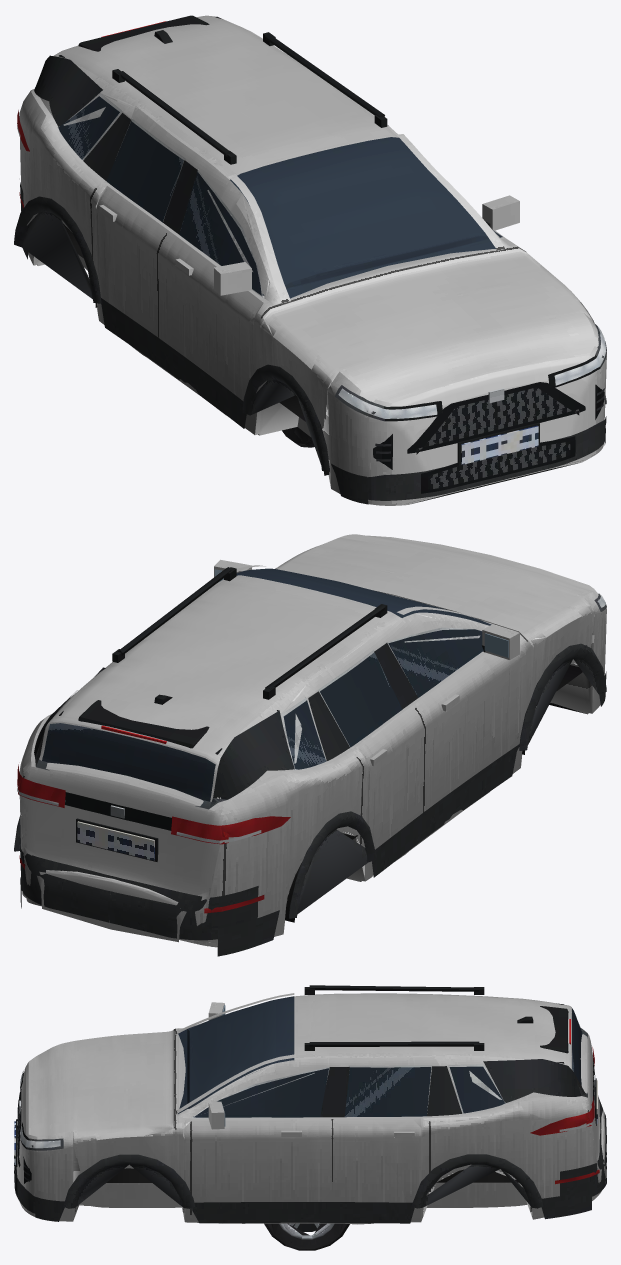
Rendered from rambla24.glb.
The picture shows the model from 3 angles, top to bottom: view 1: azimuth 30°, elevation 25°; view 2: azimuth 150°, elevation 25°; view 3: azimuth 270°, elevation 25°; orthographic projection. The views are drawn at different scales.
Parts seen in each view (by area): view 1: Paint, Body, Paint_far, Body_far; view 2: Paint, Body, Paint_far, Body_far; view 3: Paint, Body, Paint_far, Body_far, Wheel_far, Wheel.
Part boxes in pixels (x1,y1,x2,y2): Paint: [19, 15, 606, 505]; Body: [14, 15, 606, 504]; Paint_far: [30, 50, 596, 497]; Body_far: [22, 16, 605, 465]; Paint: [19, 534, 606, 947]; Body: [14, 567, 606, 956]; Paint_far: [22, 535, 600, 941]; Body_far: [18, 569, 604, 914]; Paint: [16, 993, 605, 1224]; Body: [14, 985, 606, 1223]; Paint_far: [37, 993, 602, 1223]; Body_far: [14, 988, 597, 1223]; Wheel_far: [264, 1223, 342, 1248]; Wheel: [264, 1223, 349, 1250].
Size of the model in its own units: 2.03 by 1.99 by 4.58.
Materials: 3 (3 with a texture image).
